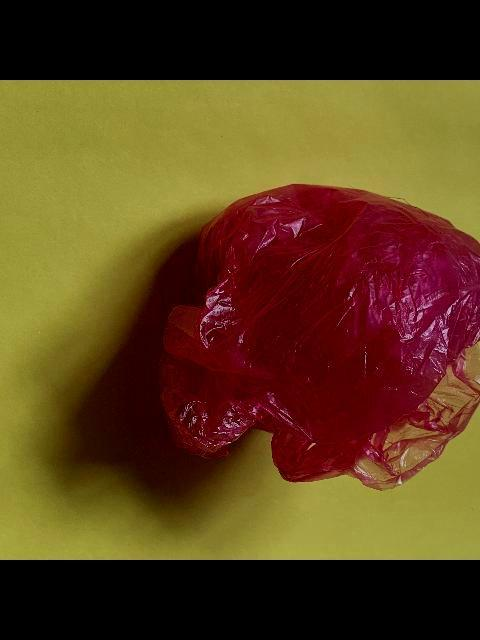plasticbag: (152, 182, 480, 493)
